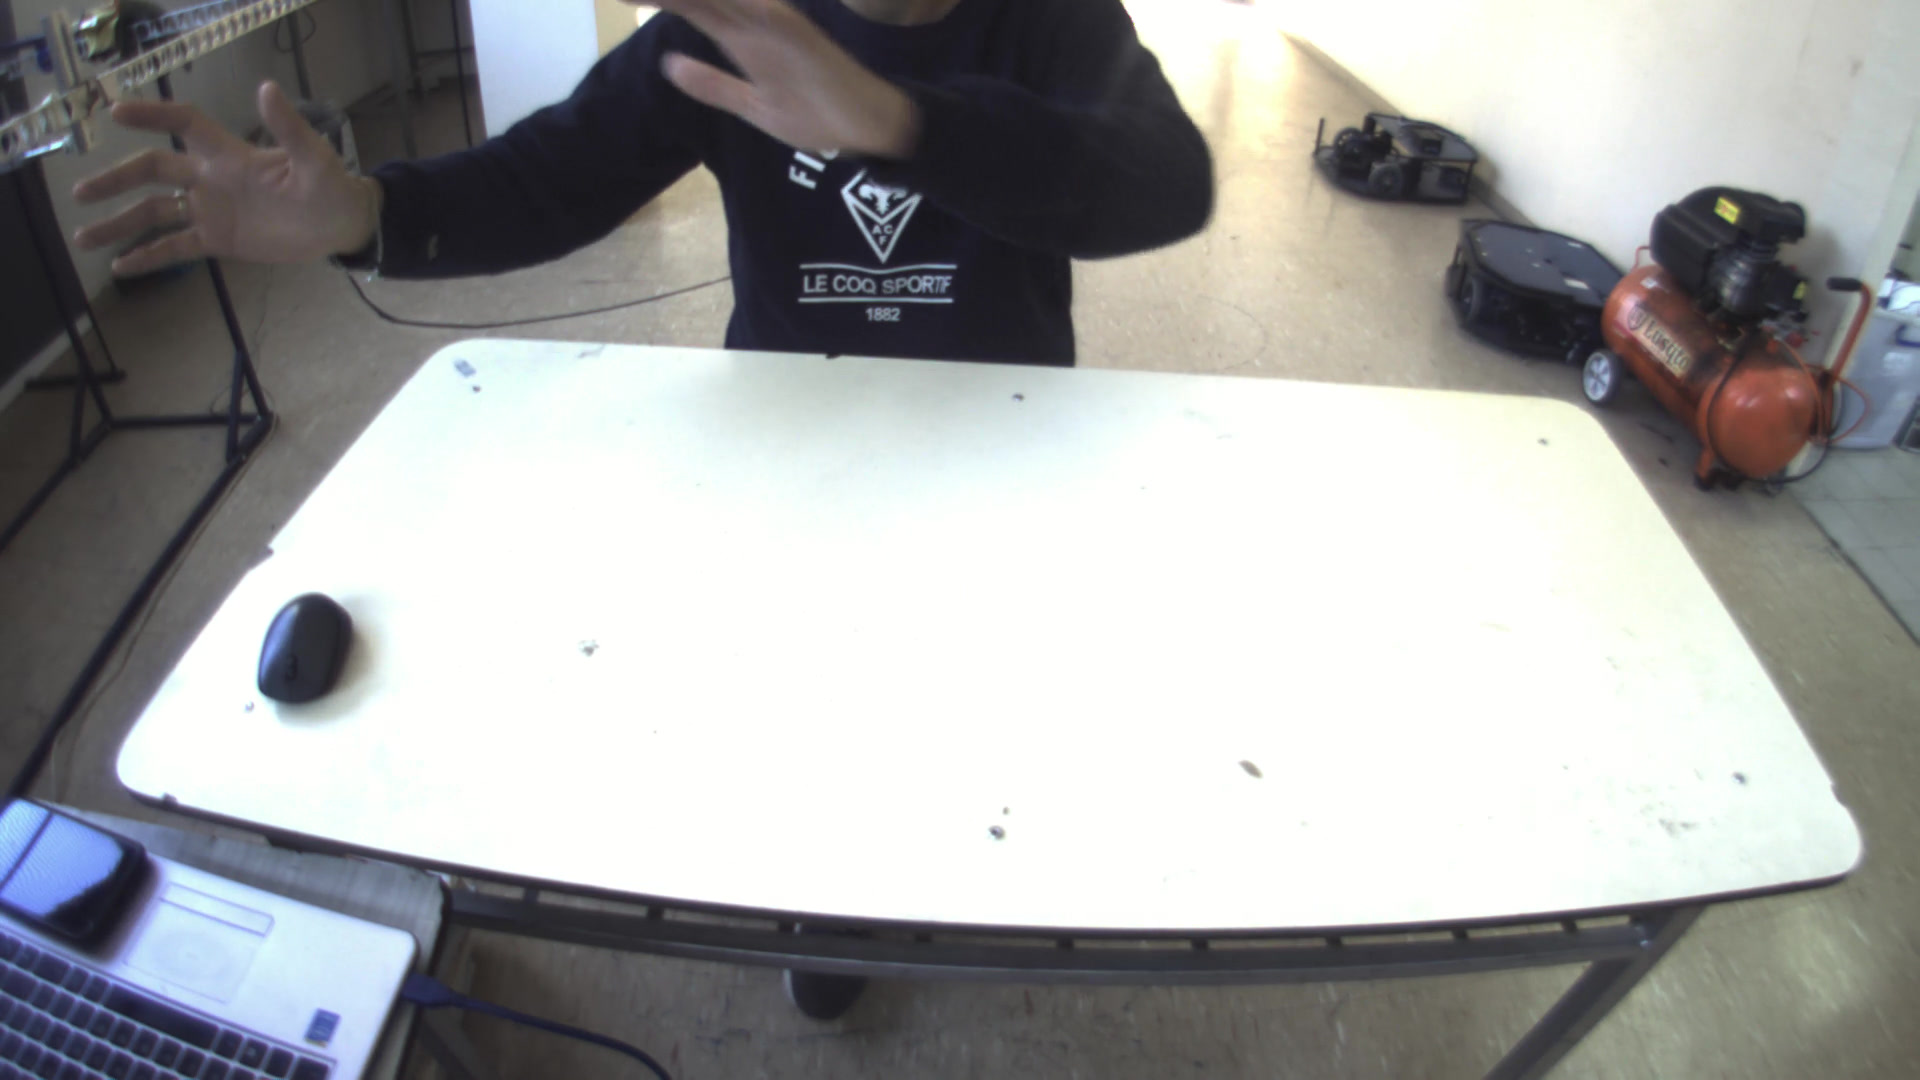hand: (50, 65, 382, 281), (645, 1, 909, 166)
